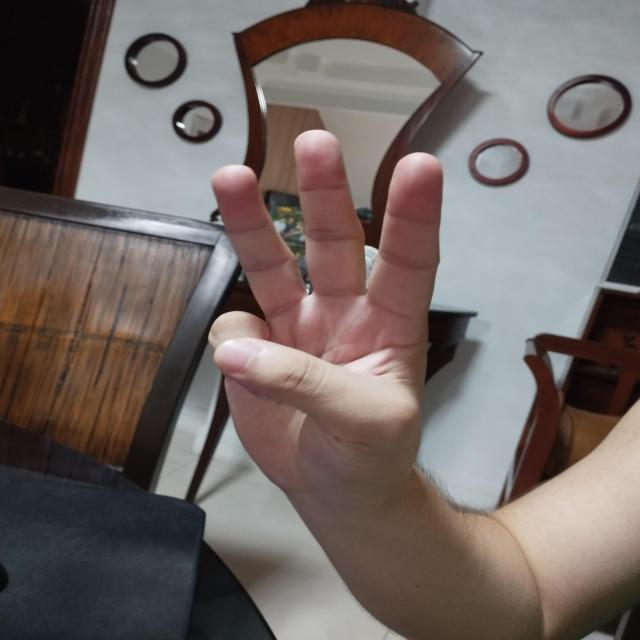W: (205, 127, 448, 487)
